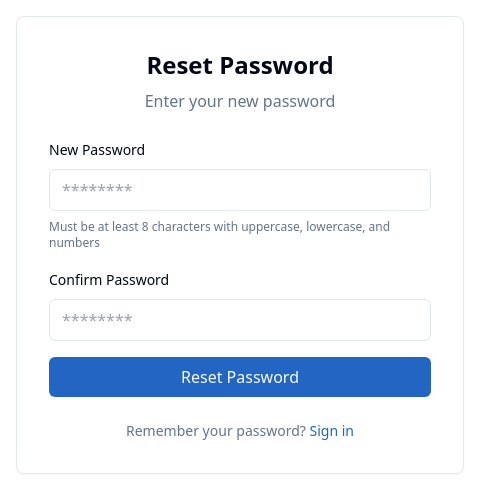
ResetPassword Page › should show loading state while submitting
The width and height of the screenshot is (481, 491).
In the password field labelled "New Password": (240, 190) [49,169,431,211], type "NewPassword123"
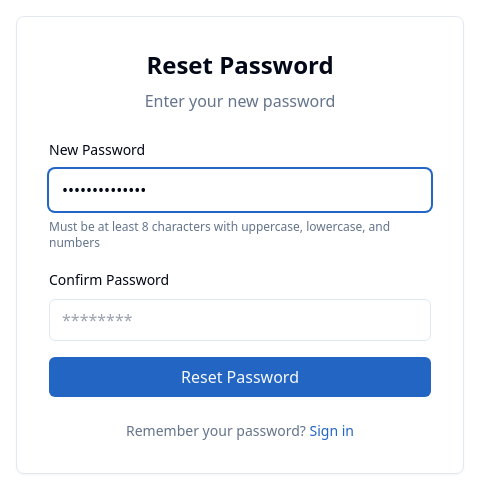
In the password field labelled "Confirm Password": (240, 320) [49,299,431,341], type "NewPassword123"
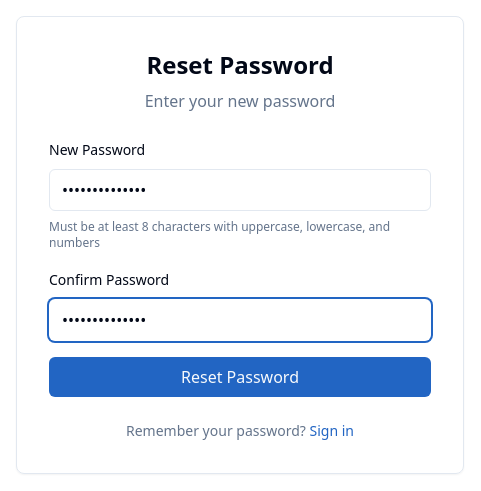
Click the button "Reset Password": (240, 377) [49,357,431,397]
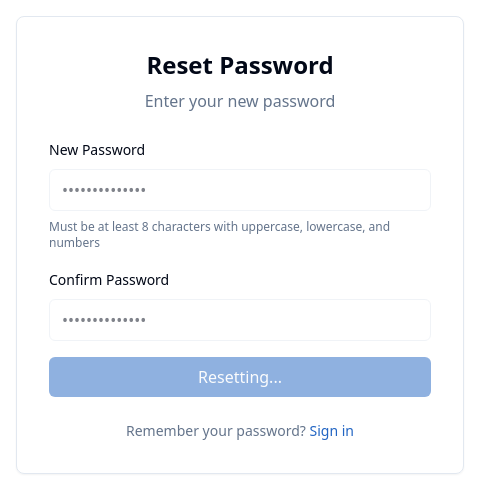
Expected: the button "Resetting..." is shown, [49,357,431,397]
